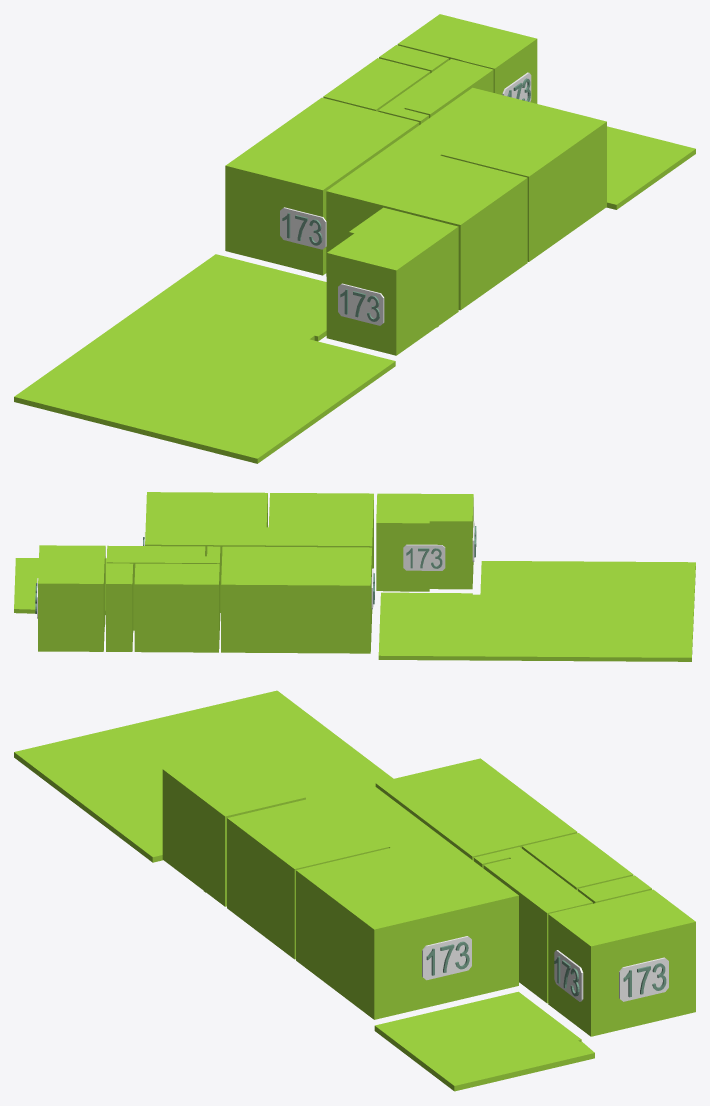
3 views of the same model, one above another, from view 1: azimuth 30°, elevation 25°; view 2: azimuth 150°, elevation 25°; view 3: azimuth 270°, elevation 25° (orthographic). The views are drawn at different scales.
Parts seen in each view (by area): view 1: g_8, g_4, g_3, g_1, g_0, g_2, g_9, g_5, g_6, g_25, g_29, g_7; view 2: g_8, g_1, g_0, g_6, g_2, g_4, g_3, g_7, g_5, g_9, g_33; view 3: g_4, g_8, g_3, g_2, g_9, g_0, g_1, g_5, g_6, g_21, g_17, g_7 (+1 smaller).
Boxes of the visible parts, x1,y1,x2,y2 form: g_8: (14, 254, 395, 463); g_4: (395, 87, 606, 261); g_3: (326, 143, 527, 310); g_1: (225, 97, 419, 275); g_0: (326, 207, 458, 355); g_2: (397, 14, 537, 103); g_9: (606, 126, 695, 209); g_5: (378, 59, 493, 124); g_6: (323, 58, 430, 111); g_25: (338, 283, 384, 325); g_29: (280, 207, 326, 249); g_7: (379, 45, 448, 73); g_8: (378, 561, 695, 661); g_1: (221, 546, 371, 653); g_0: (376, 493, 473, 591); g_6: (134, 563, 219, 652); g_2: (38, 545, 105, 651); g_4: (145, 492, 267, 612); g_3: (266, 493, 373, 613); g_7: (106, 563, 133, 651); g_5: (106, 545, 220, 630); g_9: (14, 558, 106, 614); g_33: (403, 544, 445, 570); g_4: (296, 836, 518, 1019); g_8: (14, 690, 393, 862); g_3: (227, 784, 439, 959); g_2: (548, 889, 695, 1036); g_9: (374, 991, 594, 1091); g_0: (162, 751, 305, 906); g_1: (375, 758, 577, 860); g_5: (474, 847, 592, 1003); g_6: (522, 833, 633, 890); g_21: (619, 957, 668, 1001); g_17: (422, 936, 471, 980); g_7: (578, 875, 651, 903).
Size of the model in its own units: 23.33 by 2.65 by 17.
